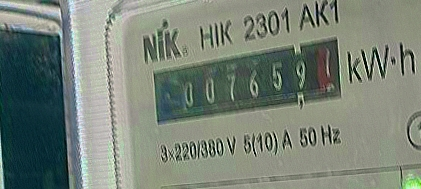0: (182, 78, 195, 106), (203, 76, 216, 103)
1: (320, 48, 333, 79)
5: (268, 60, 284, 92)
6: (247, 67, 260, 99)
7: (224, 70, 238, 102)
9: (292, 57, 308, 91)
screen: (138, 31, 360, 129)
